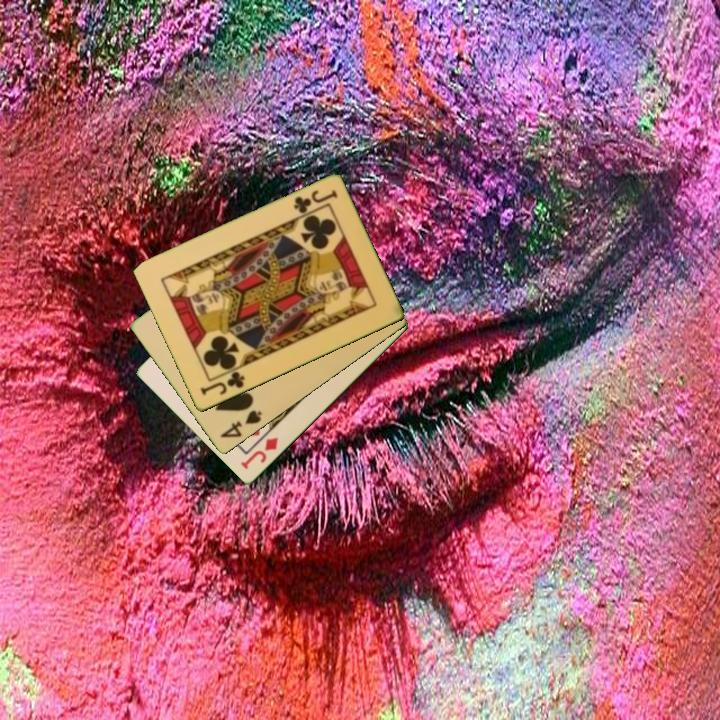4s: (216, 407, 265, 441)
Jc: (197, 368, 248, 399), (290, 186, 340, 217)
Jd: (237, 434, 281, 472)
